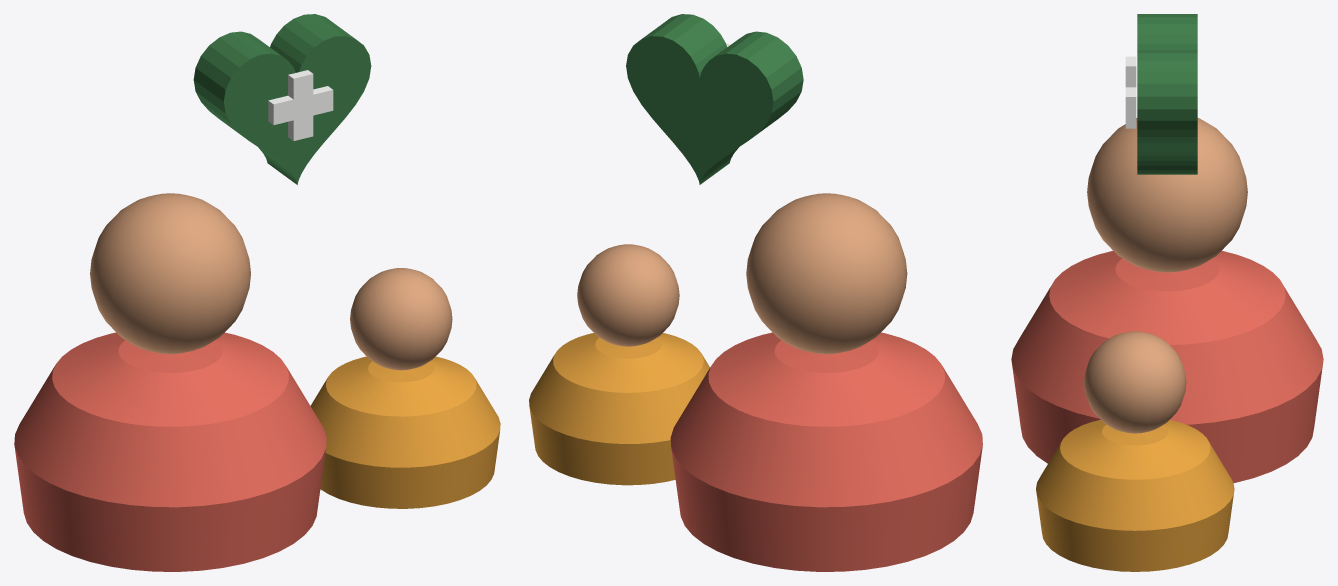
The model's file is care.glb.
The picture shows the model from 3 angles, left to right: view 1: azimuth 30°, elevation 25°; view 2: azimuth 150°, elevation 25°; view 3: azimuth 270°, elevation 25°; orthographic projection.
Visible parts, largest first — view 1: care; view 2: care; view 3: care.
Part boxes in pixels (<box>): care: <box>14,14,500,571</box>; care: <box>529,14,982,571</box>; care: <box>1011,14,1323,571</box>.
Bounding box in the file's own units: 2.34 × 2.29 × 1.45.
